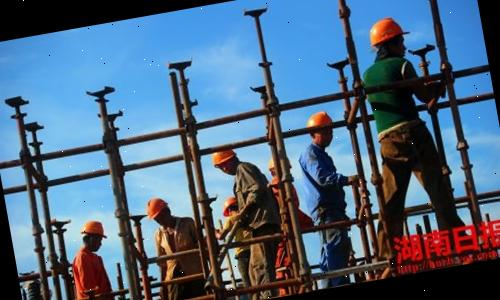helmet: (362, 14, 412, 48), (206, 142, 244, 168), (302, 108, 335, 134), (143, 195, 173, 220), (81, 217, 111, 241)
no_wear: (362, 56, 418, 133), (229, 162, 279, 236), (154, 222, 202, 288)
wear: (296, 142, 346, 222), (68, 249, 111, 300)
